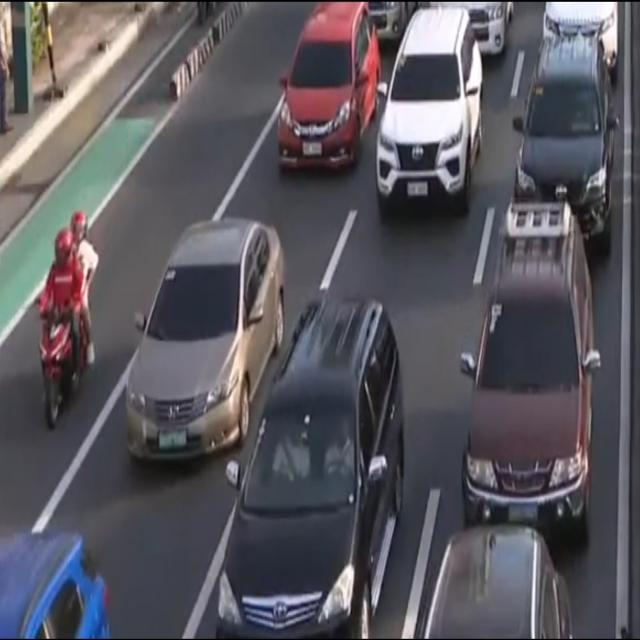Motorcycle: (37, 206, 98, 433)
SUV: (223, 295, 404, 640), (460, 208, 593, 551), (512, 30, 616, 262), (373, 13, 486, 212), (414, 527, 575, 640), (0, 526, 115, 640)
Sedan: (123, 214, 287, 466), (276, 4, 382, 178)
Van: (539, 0, 620, 70), (423, 0, 510, 55)
